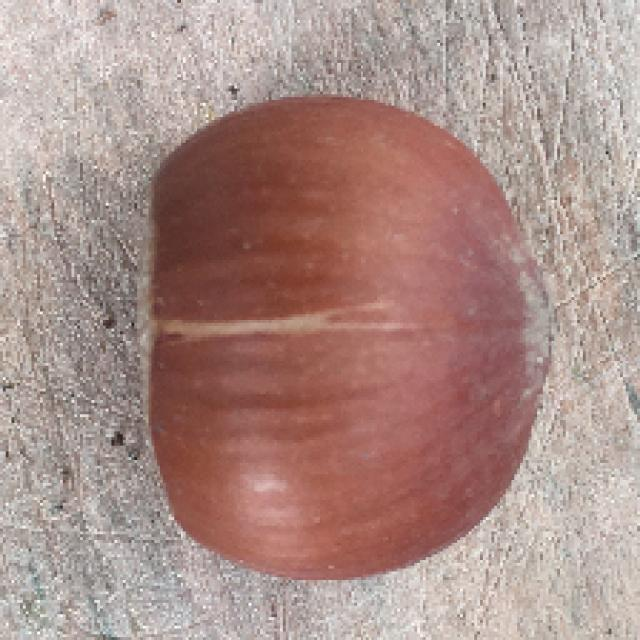DamagedHazelnut: (133, 87, 557, 580)
